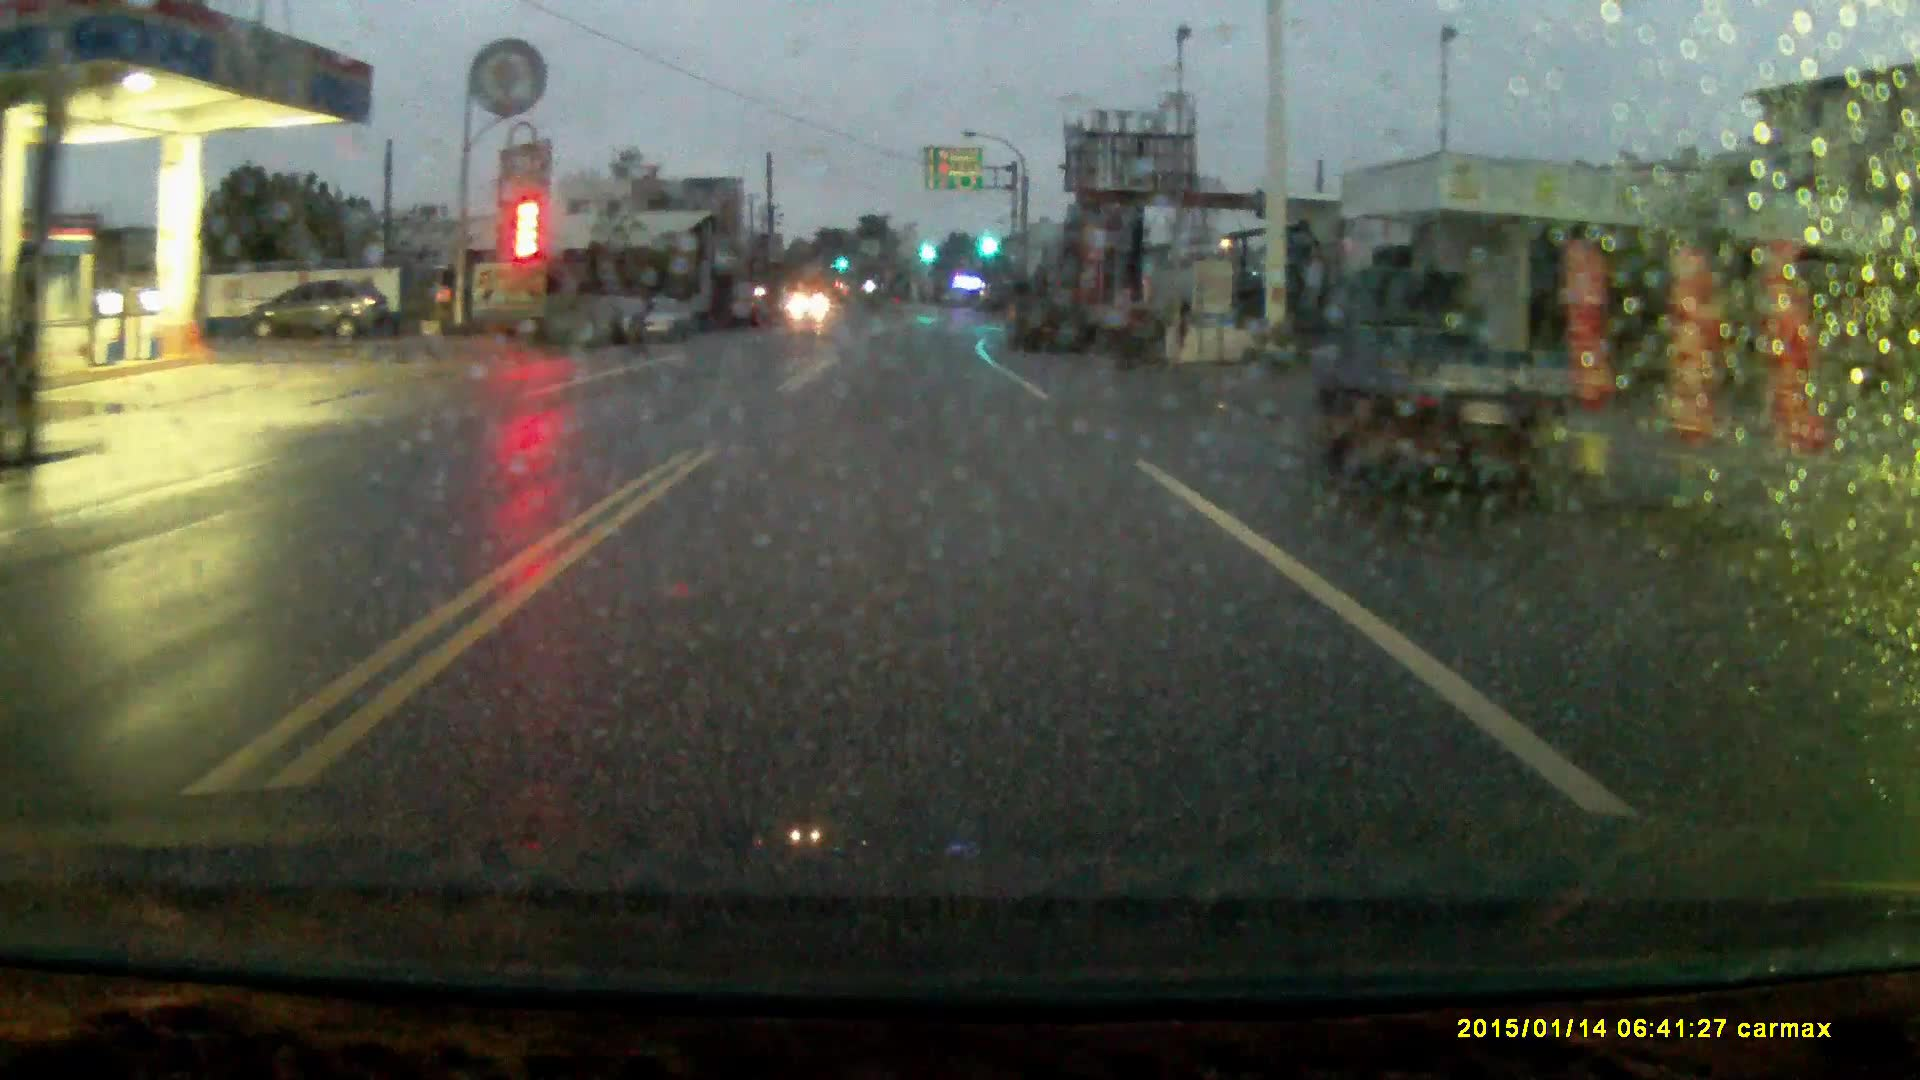rider: (629, 271, 664, 358)
vehicle: (1341, 267, 1574, 495), (247, 284, 390, 339), (1008, 273, 1096, 357), (623, 301, 702, 347)
